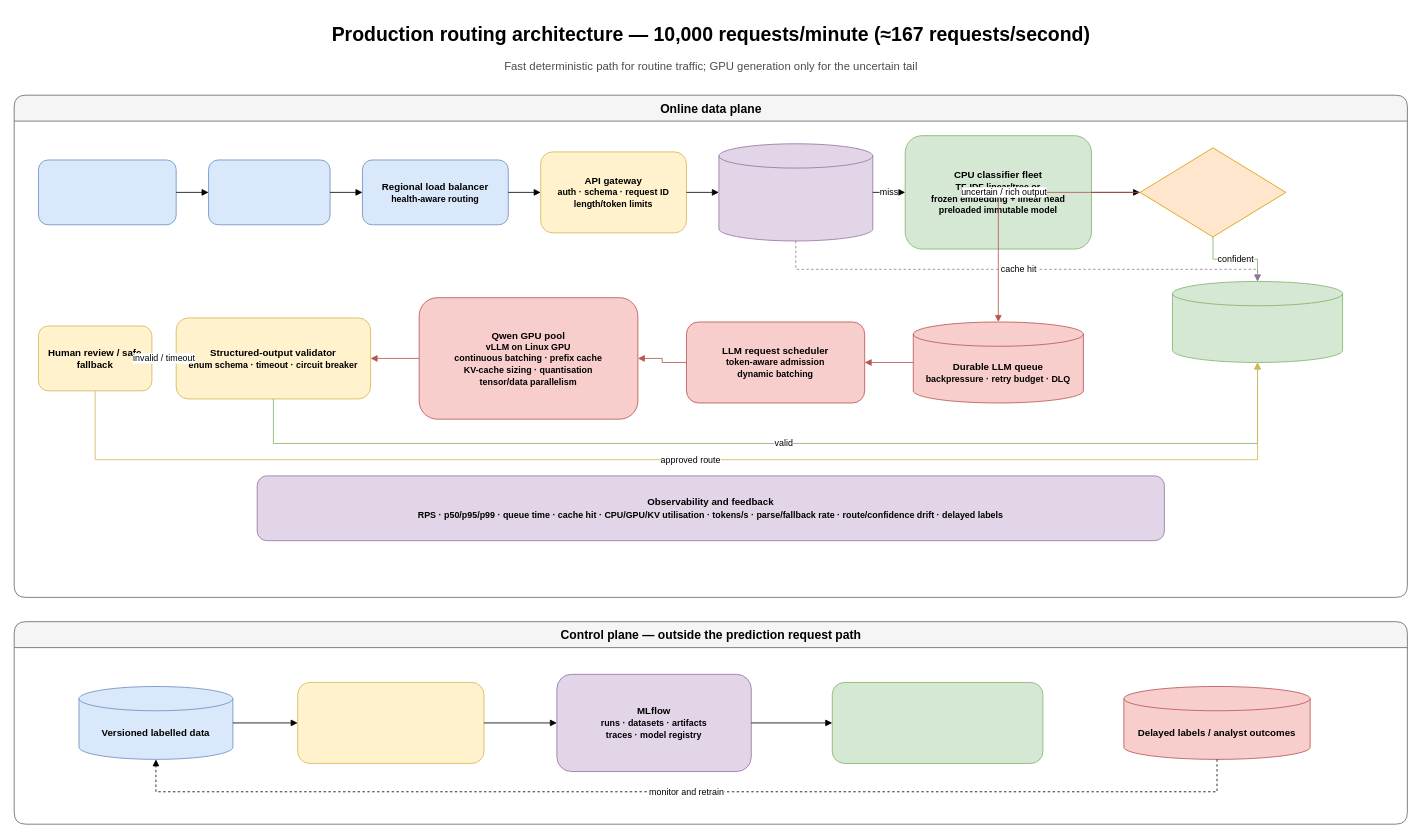
The diagram is 1422 pixels wide and 838 high, and some of its shapes have lost their labels. Each missing label, with the centre of its shape:
"Canary deployment controller immutable version · health gate · rollback" goes at (x=937, y=722).
"CDN / WAF rate limiting" goes at (x=269, y=192).
"Clients / support channels web, mobile, internal tools" goes at (x=107, y=192).
"Confidence / policy router" goes at (x=1212, y=192).
"Evaluation pipeline grouped CV · metrics · tests · gate" goes at (x=390, y=722).
"Support route queues account · dispute · fraud · general" goes at (x=1257, y=321).
"Versioned response cache model version + text hash short TTL · bounded memory" goes at (x=795, y=192).
